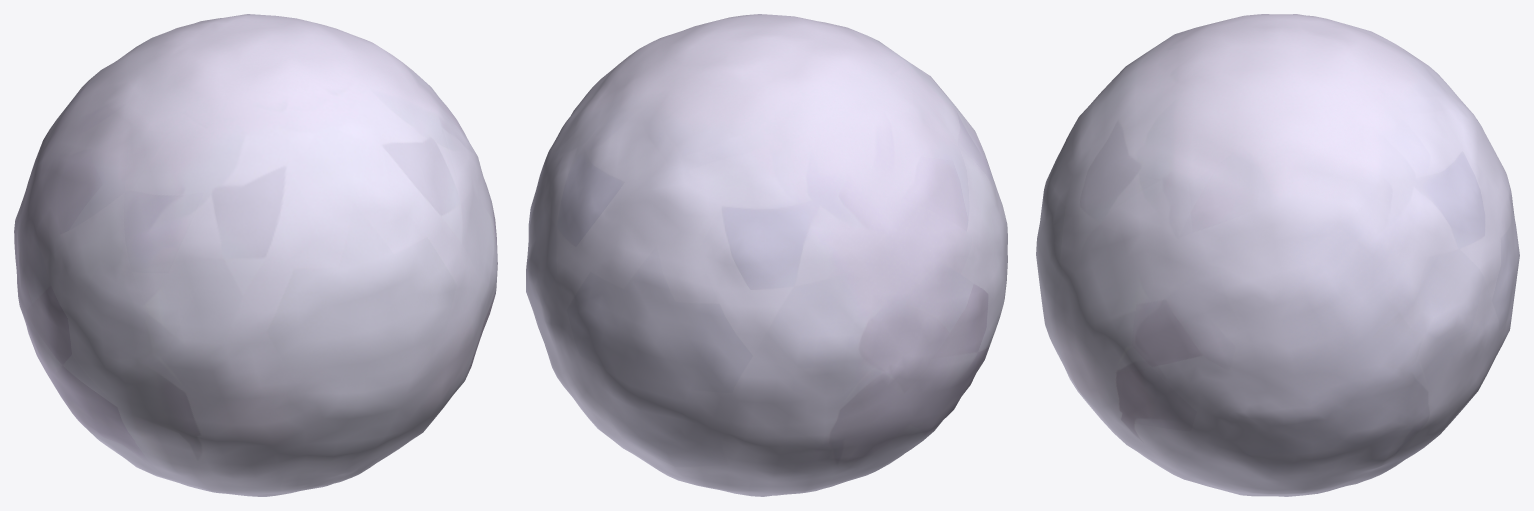
Rendered from stone_of_vitality_v1.glb.
3 views of the same model, side by side, from view 1: azimuth 30°, elevation 25°; view 2: azimuth 150°, elevation 25°; view 3: azimuth 270°, elevation 25° (orthographic).
Size of the model in its own units: 1.9 by 1.91 by 1.9.
1 material, 1 textured.
